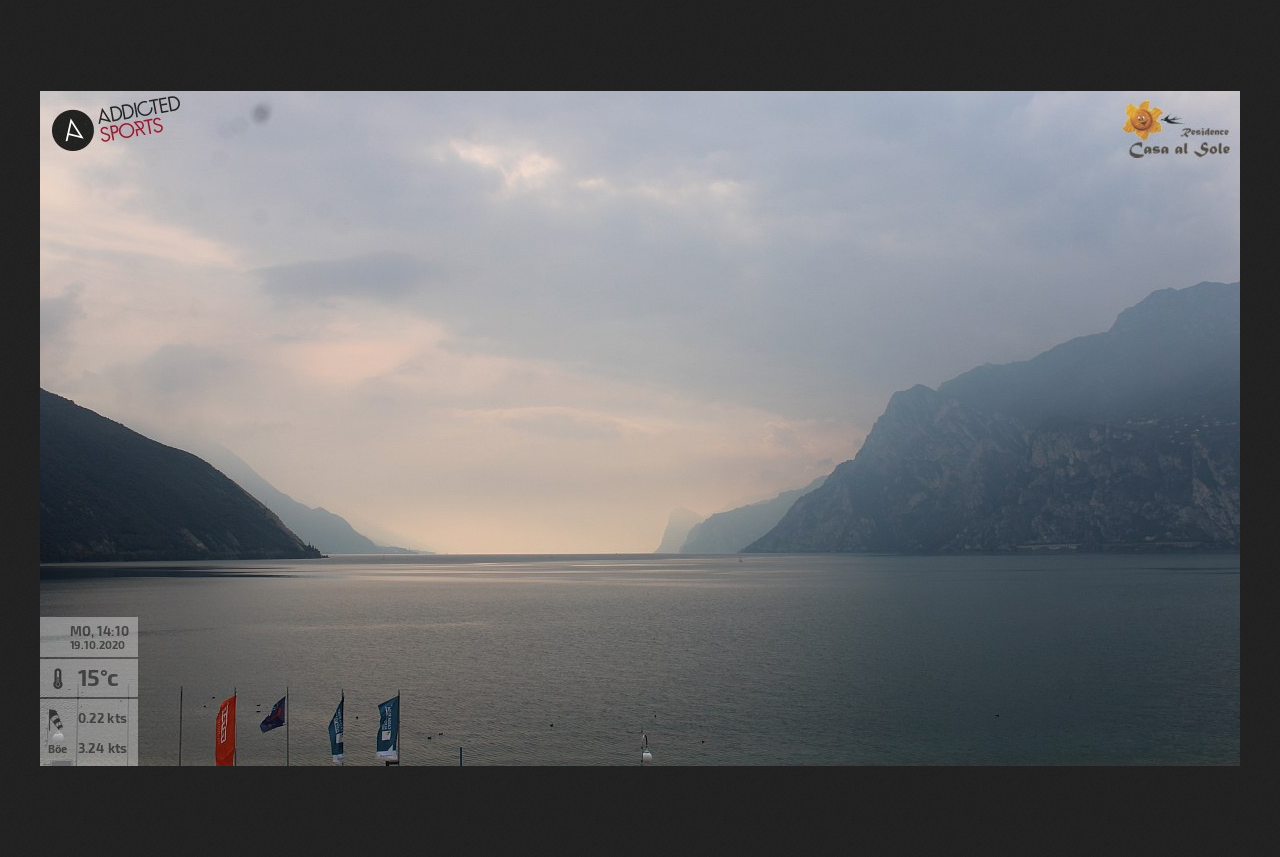yes: (373, 696, 401, 761), (213, 694, 236, 766), (323, 701, 348, 763), (261, 698, 289, 737)
